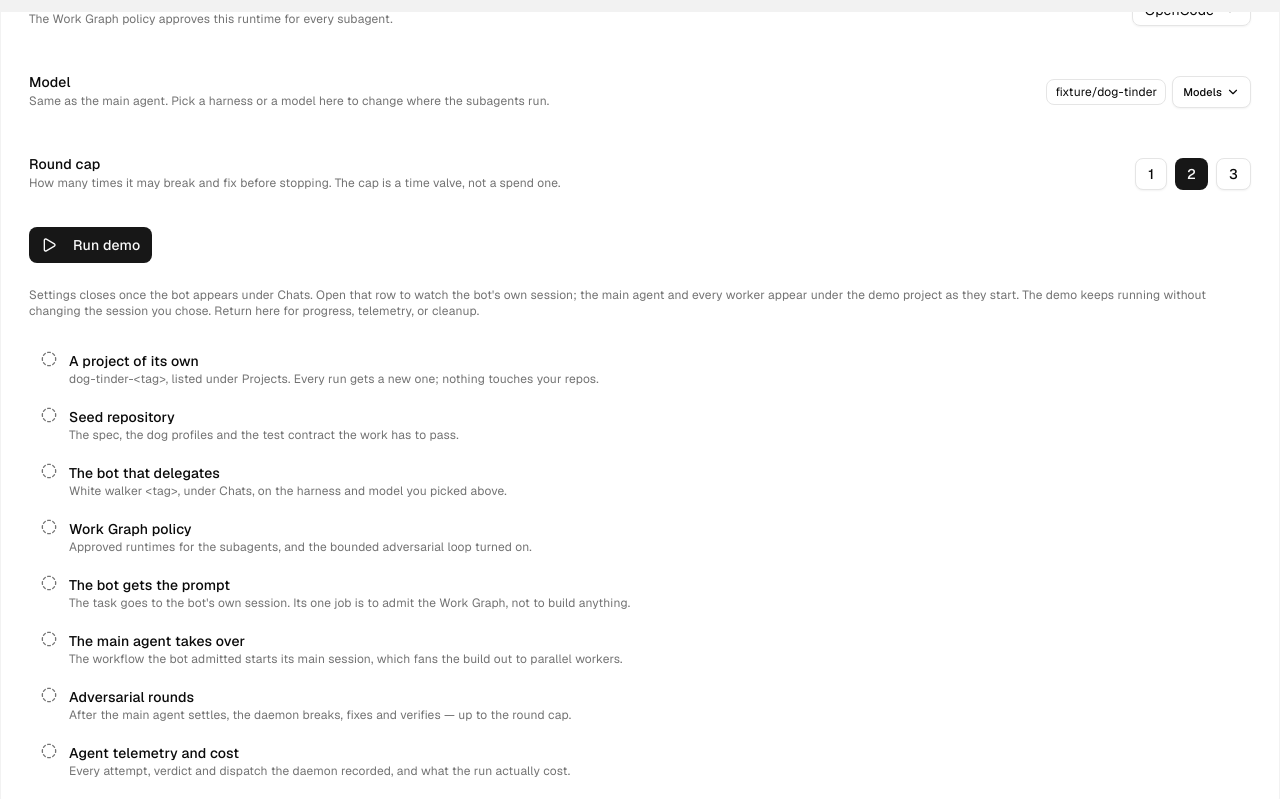
Test case: Settings → Reproducible demo › a run walks the phases, shows the bot's session, the rounds and the cost
(page scrolled)
What coordinates should you click on to do the following:
click the button with test id "repro-demo-run"
I would click on:
 (91, 245)
Its box is left=29, top=227, right=152, bottom=263.
(page scrolled)
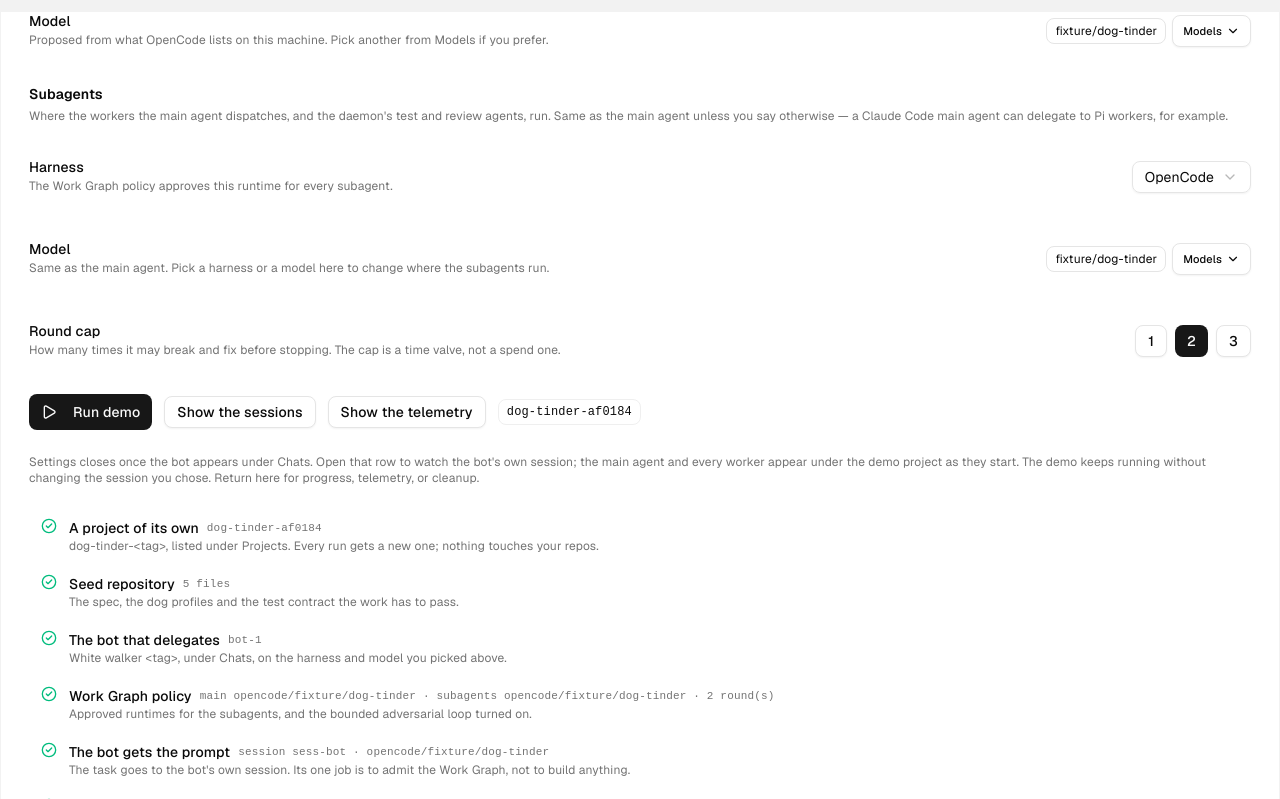
expect the button with test id "repro-demo-show-orchestration" reads "Show the sessions": met, box left=164, top=396, right=316, bottom=428
expect the button with test id "repro-demo-show-telemetry" reads "Show the telemetry": met, box left=328, top=396, right=486, bottom=428
